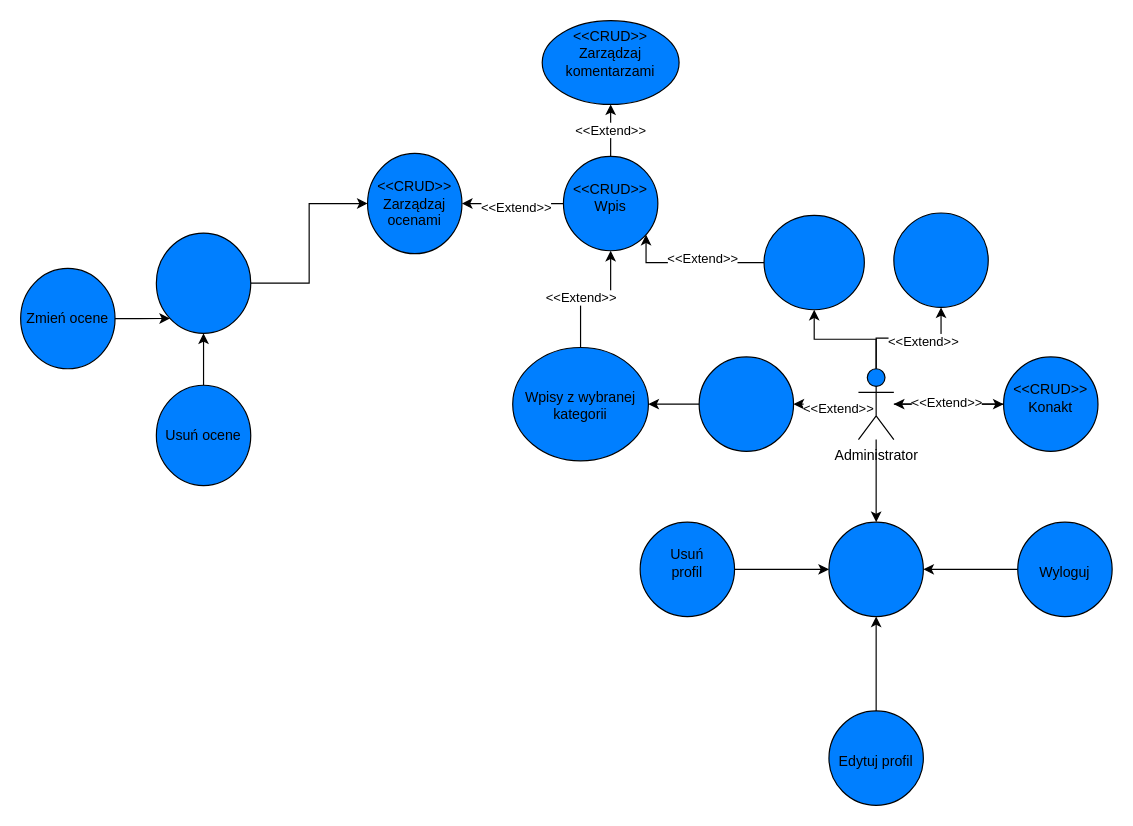
Some shapes in this 1133 by 826 pixel diagram are drawn without their labels. Each missing label, with the centre of its shape:
<<CRUD>> Kategorie: the point at 746,403
<<CRUD>> Zarządzaj użytkownikami: the point at 940,259
Dodaj ocene: the point at 203,282
Strona główna: the point at 813,262
Zarządzaj profilem: the point at 875,569
